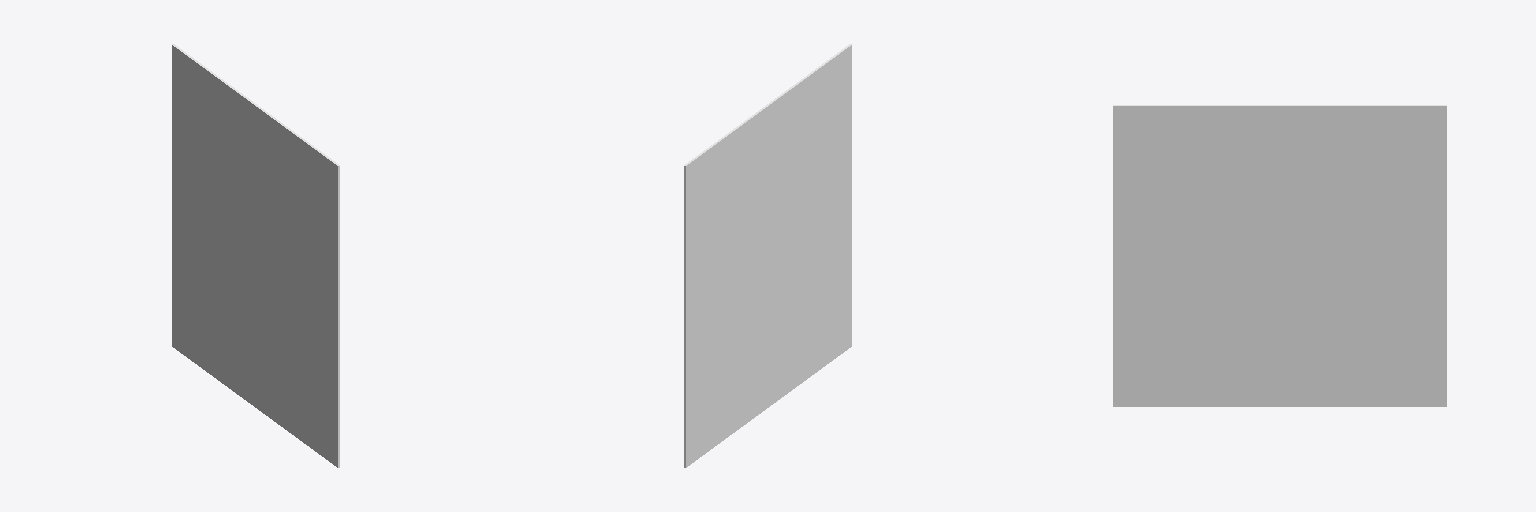
The model's file is Poster3.obj.
The picture shows the model from 3 angles: view 1: azimuth 30°, elevation 25°; view 2: azimuth 150°, elevation 25°; view 3: azimuth 270°, elevation 25°; orthographic projection.
Bounding box in the file's own units: 1 × 126 × 126.